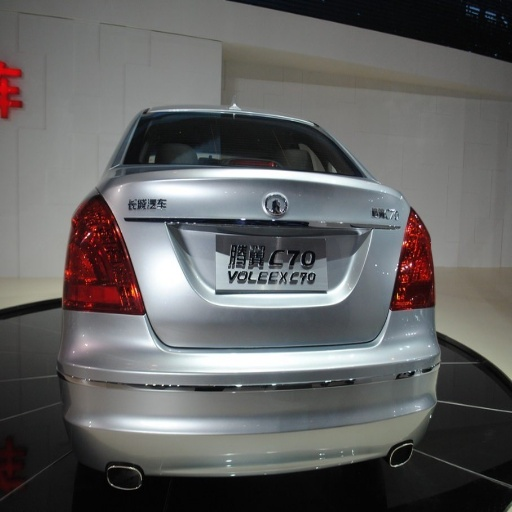back_bumper: (61, 308, 441, 497)
